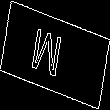M_S: (37, 24, 73, 86)
